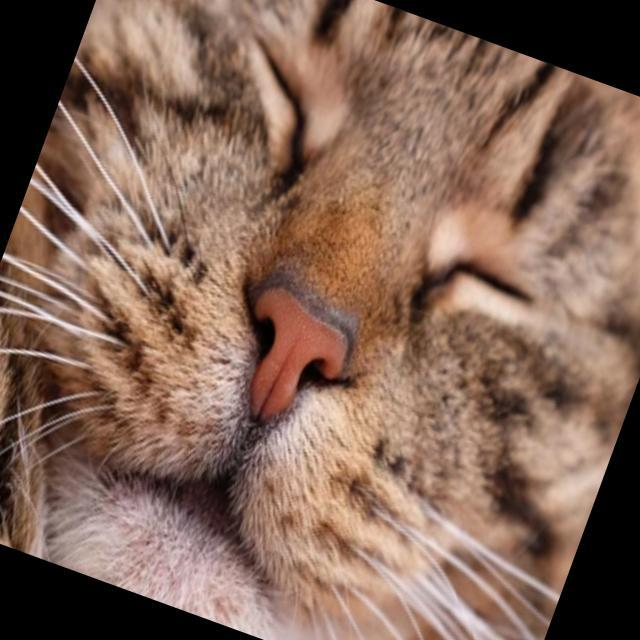Healthy skin: (462, 368, 610, 534), (370, 56, 516, 197), (98, 0, 227, 107), (318, 195, 412, 277)
